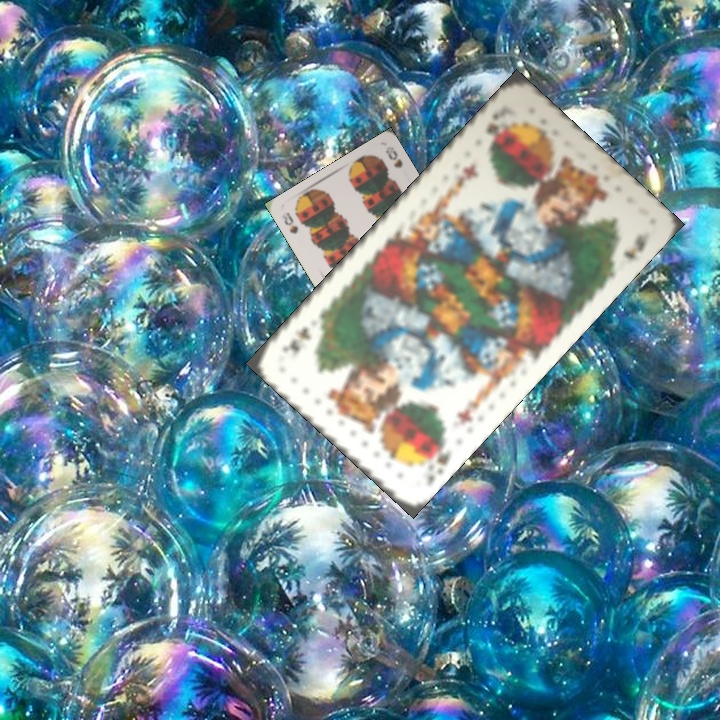S8: (277, 208, 301, 236)
SK: (429, 434, 454, 476), (481, 110, 507, 150)
